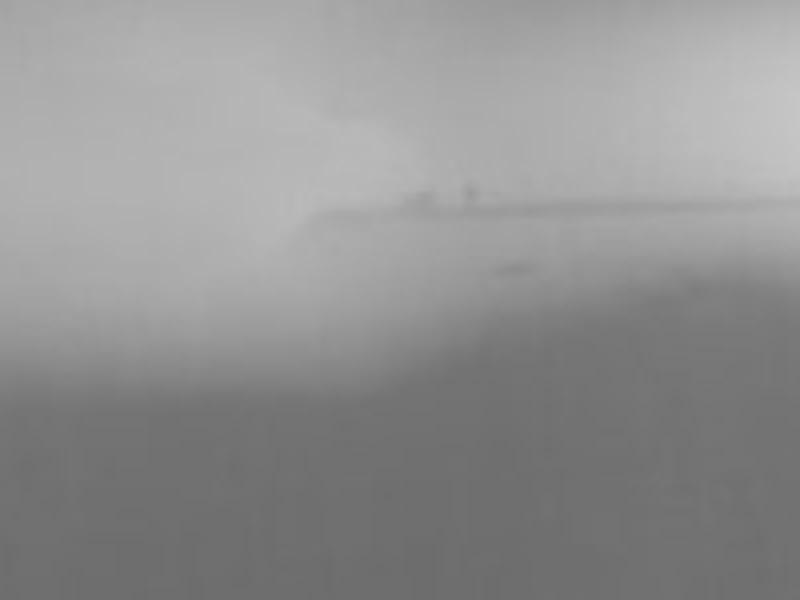defect: (461, 179, 480, 210), (411, 192, 434, 212)
